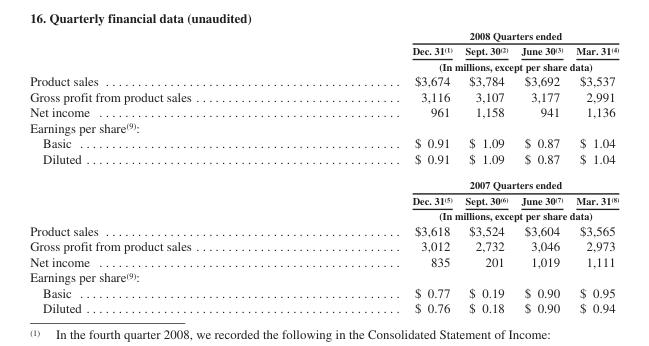table: (29, 28, 618, 315)
table column: (29, 28, 301, 315), (301, 28, 458, 315), (458, 28, 513, 315), (513, 28, 568, 315), (568, 28, 618, 315)
table column header: (29, 28, 618, 72)
table projected row header: (29, 119, 618, 134), (29, 269, 618, 284)
table row: (29, 150, 618, 172), (29, 172, 618, 192), (29, 42, 618, 58), (29, 72, 618, 88), (29, 103, 618, 119), (29, 134, 618, 150), (29, 222, 618, 238), (29, 253, 618, 269), (29, 284, 618, 300), (29, 88, 618, 103), (29, 119, 618, 134), (29, 192, 618, 207), (29, 207, 618, 222), (29, 238, 618, 253), (29, 269, 618, 284), (29, 300, 618, 315), (29, 28, 618, 42), (29, 58, 618, 72)
table spanning cell: (29, 150, 301, 222), (301, 172, 618, 192), (301, 207, 618, 222), (301, 28, 618, 42), (301, 58, 618, 72)
